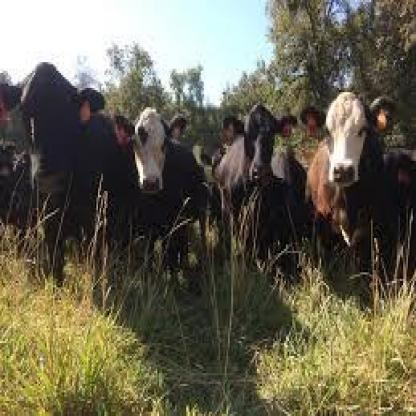cow: (0, 67, 117, 282), (300, 95, 394, 295), (213, 102, 299, 258), (116, 109, 182, 195)
